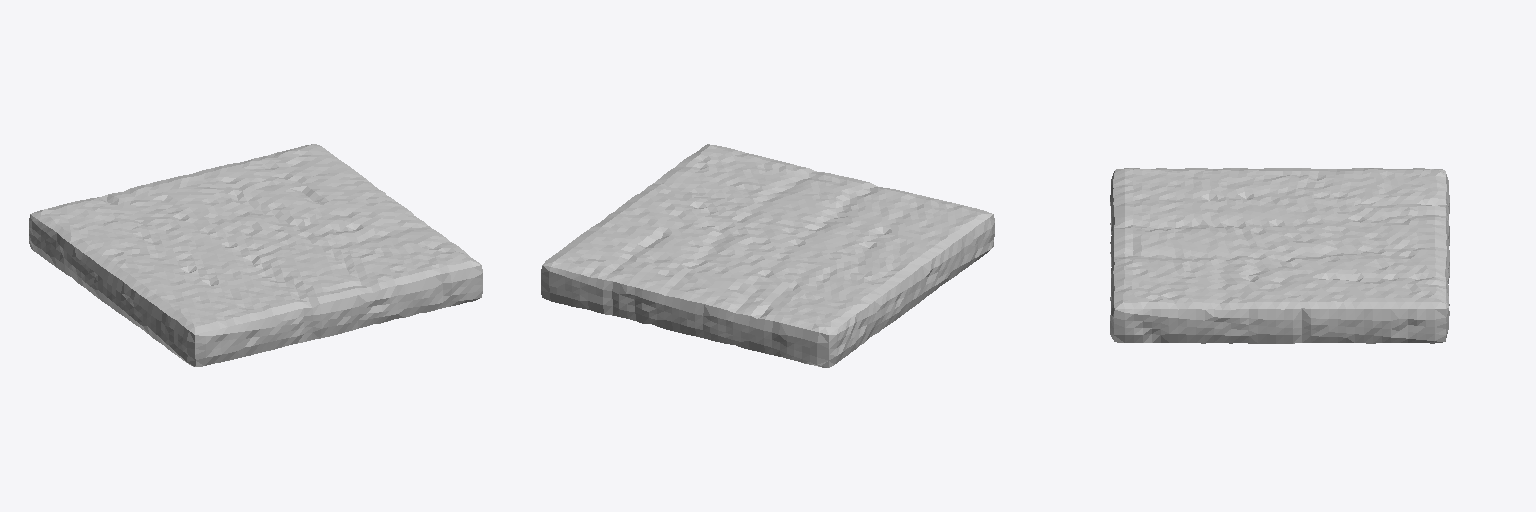
File: floorslab.obj
The picture shows the model from 3 angles: view 1: azimuth 30°, elevation 25°; view 2: azimuth 150°, elevation 25°; view 3: azimuth 270°, elevation 25°; orthographic projection.
Size of the model in its own units: 5.19 by 0.686 by 5.19.